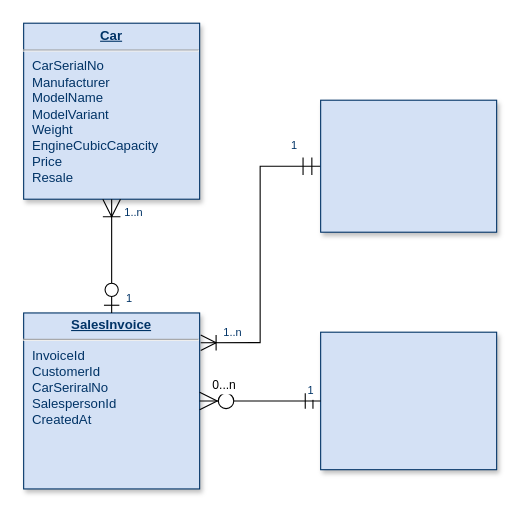
The diagram is 523 pixels wide and 517 high, and some of its shapes have lost their labels. The centre of each missing label's shape, as x and y in pixels:
Customer CustomerId CustomerName customerPhone: the point at 409,167
Salesperson SalaepersonId SalespersonName: the point at 409,402
